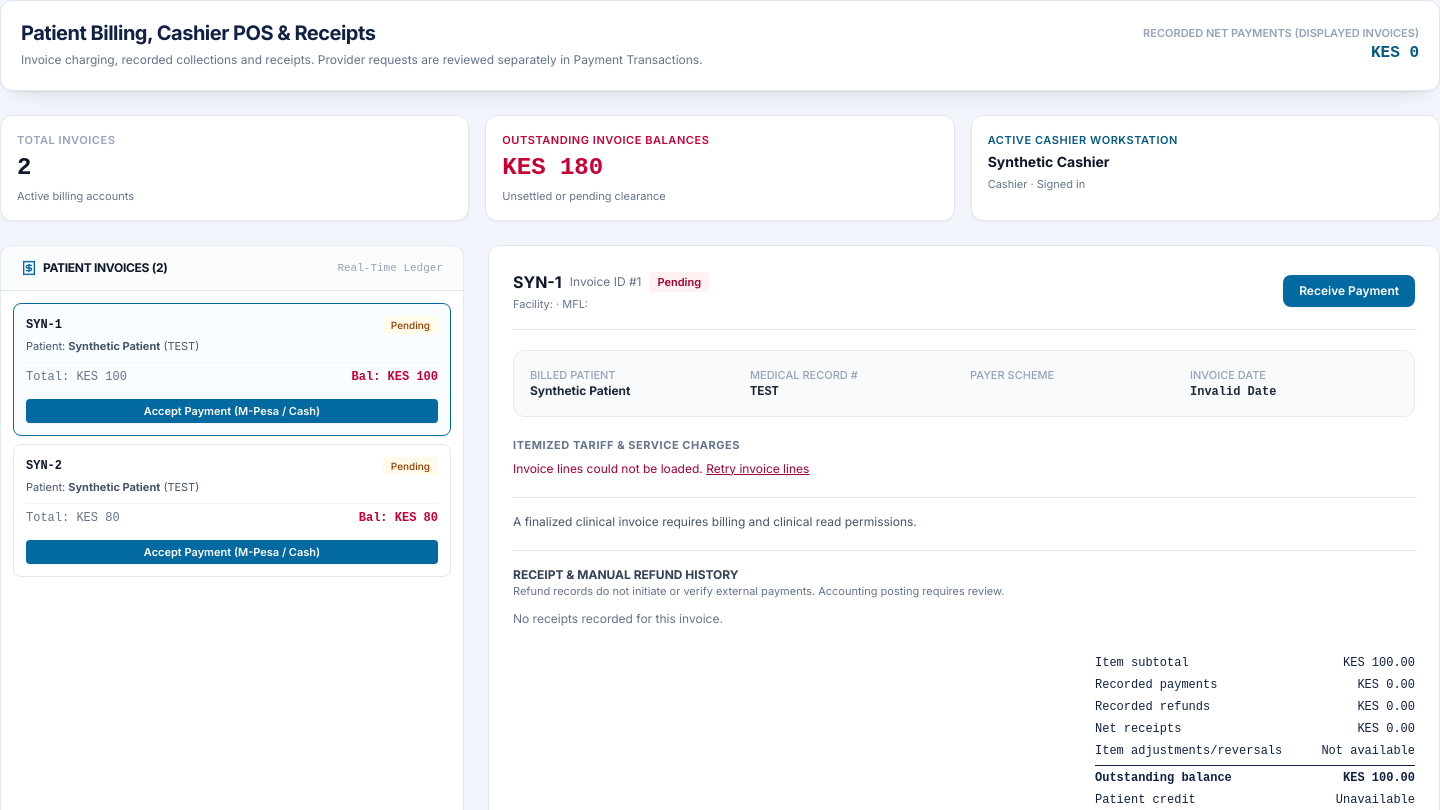
it: Cashier loading and selection › does not turn an invoice line load error into an empty line table
The width and height of the screenshot is (1440, 810).
Check: the message shows "Invoice lines could not be loaded", box [513,460,703,476]
Step 1. Click the button "Retry invoice lines" → (758, 468), box [706,460,809,476]
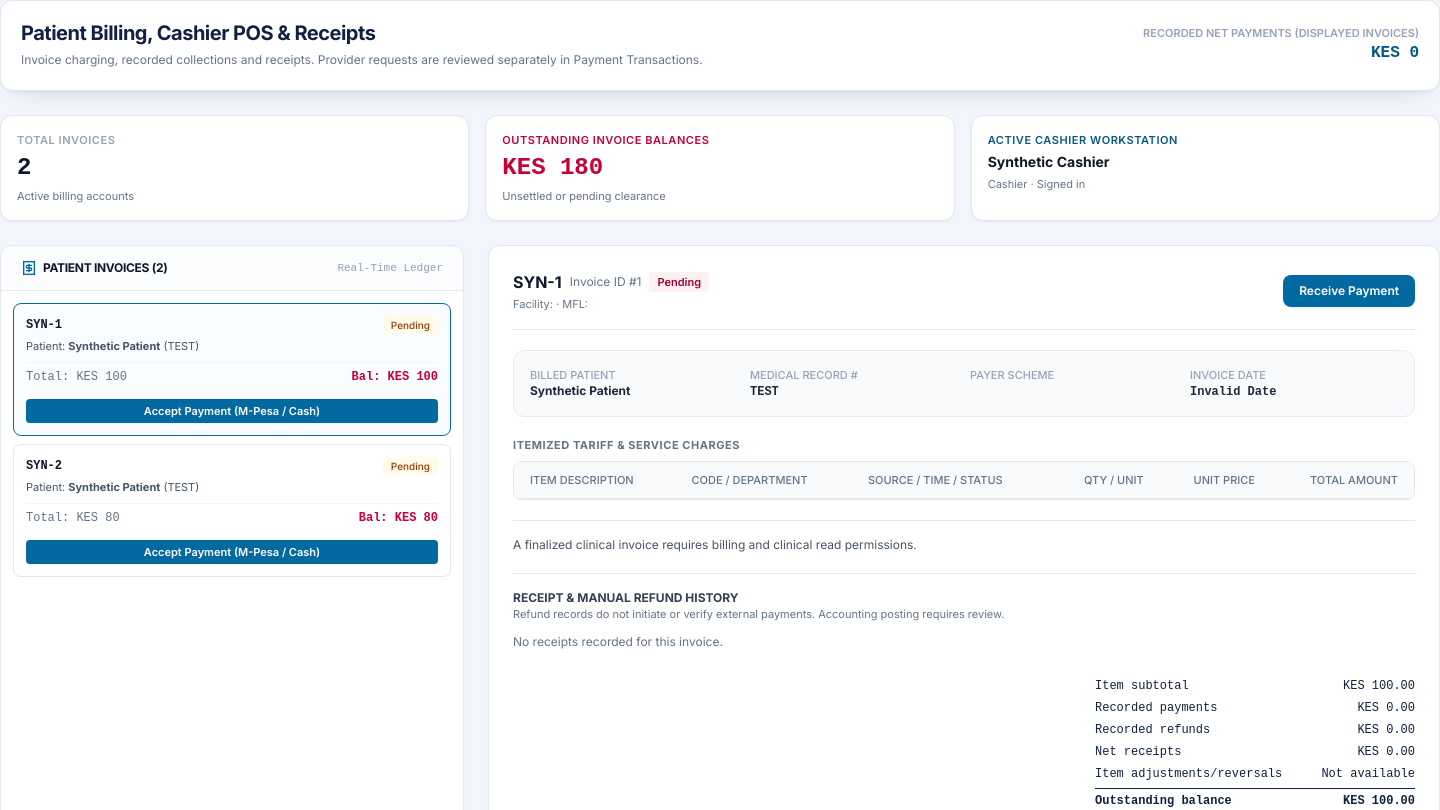
Check: the message "Invoice lines could not be loaded. Retry invoice lines" is gone
